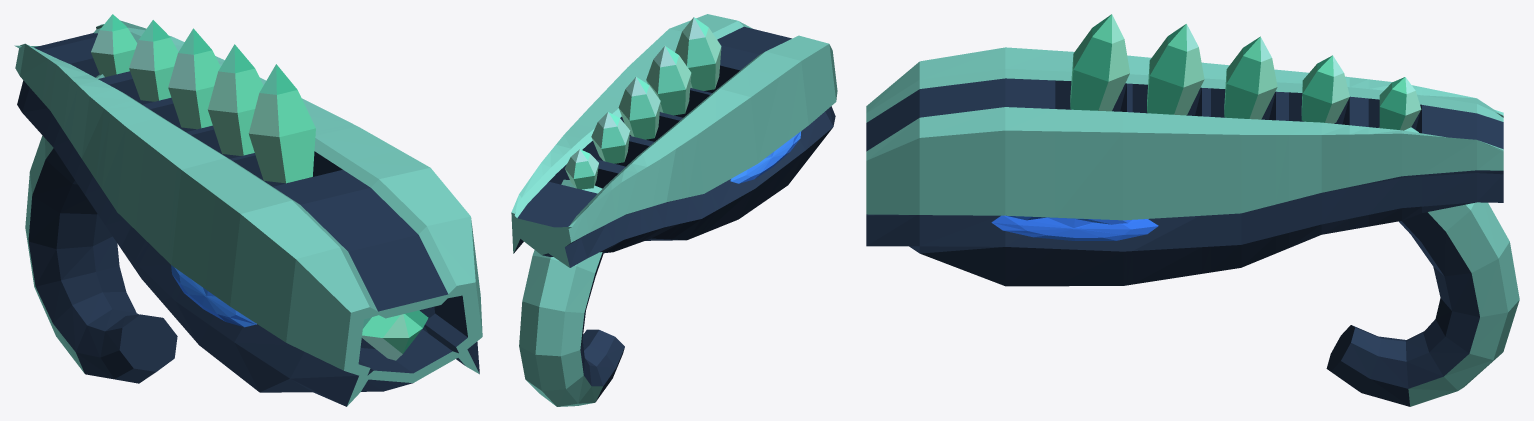
The picture shows the model from 3 angles, left to right: view 1: azimuth 30°, elevation 25°; view 2: azimuth 150°, elevation 25°; view 3: azimuth 270°, elevation 25°; orthographic projection. The views are drawn at different scales.
Visible parts, largest first — view 1: maian_crystal_pistol_standin; view 2: maian_crystal_pistol_standin; view 3: maian_crystal_pistol_standin.
Boxes of the visible parts, x1,y1,x2,y2 form: maian_crystal_pistol_standin: (14,14,482,406); maian_crystal_pistol_standin: (511,14,837,406); maian_crystal_pistol_standin: (866,14,1519,406).
Bounding box in the file's own units: 95.88 × 189 × 287.
